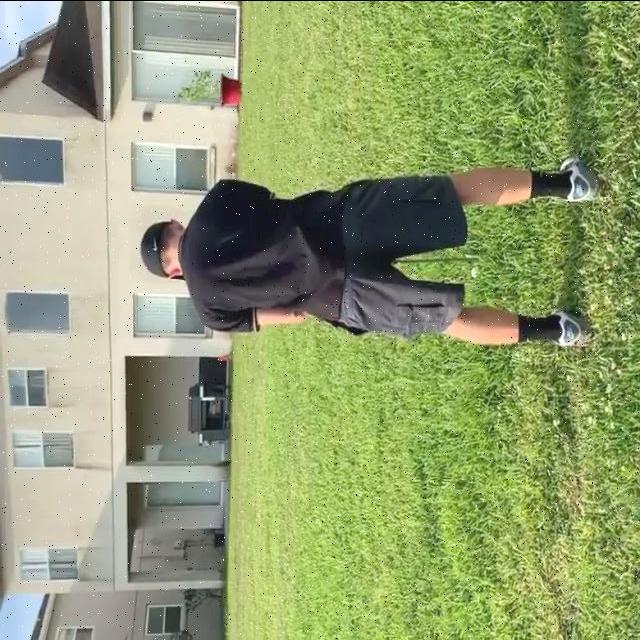ClubHandle: (391, 244, 480, 264)
ClubHead: (462, 251, 476, 262)
GolfBall: (472, 266, 482, 279)
